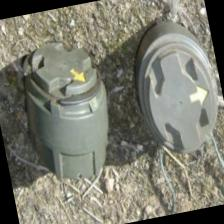M14: (19, 34, 122, 184), (125, 14, 224, 168)
